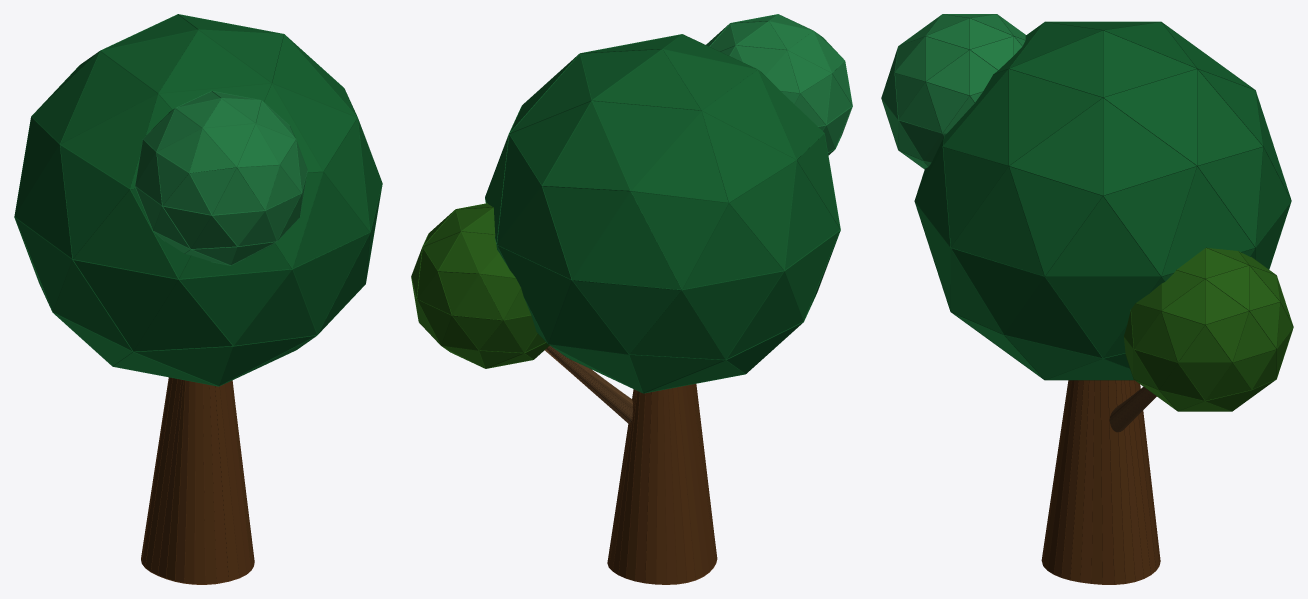
Rendered from tree.fbx.
3 views of the same model, side by side, from view 1: azimuth 30°, elevation 25°; view 2: azimuth 150°, elevation 25°; view 3: azimuth 270°, elevation 25° (orthographic). The views are drawn at different scales.
Parts seen in each view (by area): view 1: Cylinder.001, Cylinder.002; view 2: Cylinder.001, Cylinder.002; view 3: Cylinder.001, Cylinder.002.
Boxes of the visible parts, x1,y1,x2,y2 form: Cylinder.001: (14, 14, 382, 584); Cylinder.002: (14, 14, 382, 584); Cylinder.001: (411, 14, 852, 584); Cylinder.002: (411, 14, 852, 584); Cylinder.001: (882, 14, 1293, 584); Cylinder.002: (881, 14, 1293, 584).
Bounding box in the file's own units: 342 × 494 × 347.
